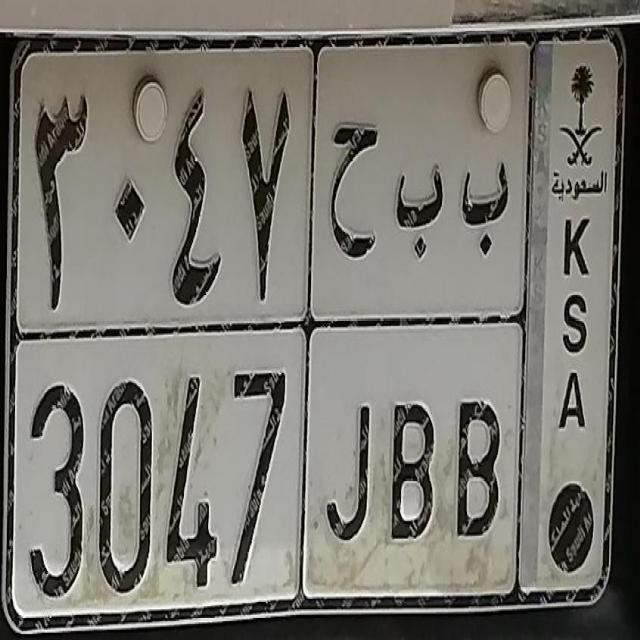license_plate: (6, 22, 626, 633)
